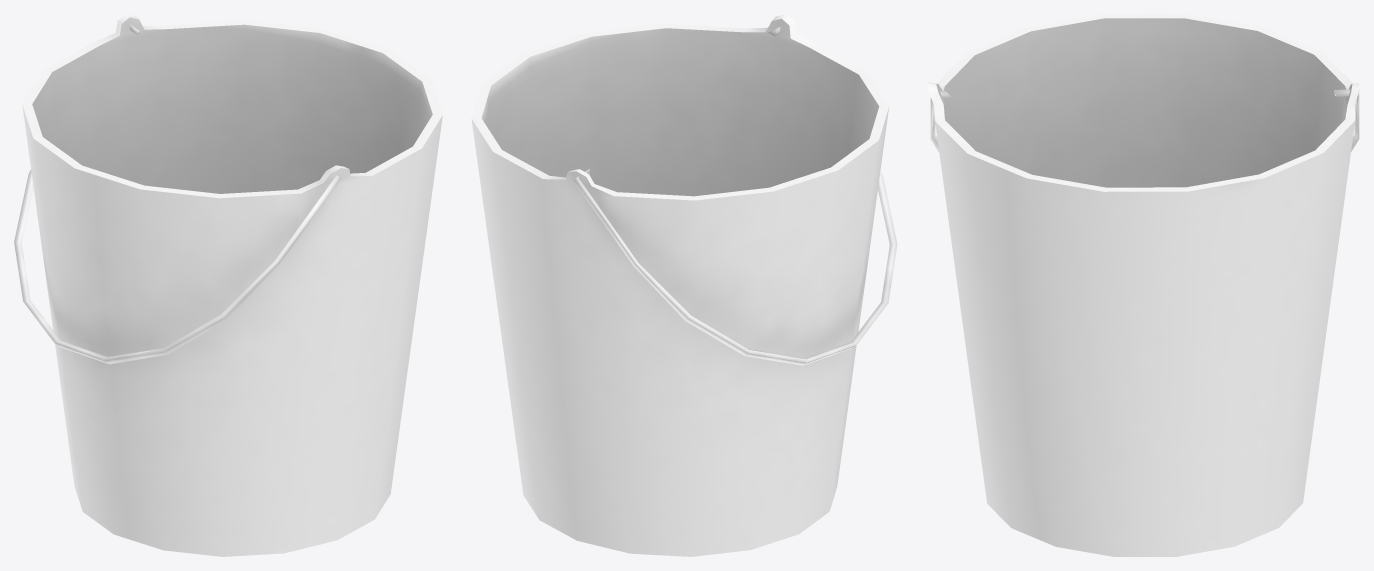
File: Bucket.glb
The picture shows the model from 3 angles, left to right: view 1: azimuth 30°, elevation 25°; view 2: azimuth 150°, elevation 25°; view 3: azimuth 270°, elevation 25°; orthographic projection. The views are drawn at different scales.
Parts seen in each view (by area): view 1: Bucket, Bucket.001; view 2: Bucket, Bucket.001; view 3: Bucket, Bucket.001.
Part boxes in pixels (x1,y1,x2,y2): Bucket: (22,14,442,556); Bucket.001: (14,24,341,364); Bucket: (471,14,889,556); Bucket.001: (573,27,897,365); Bucket: (926,14,1359,556); Bucket.001: (930,89,1359,152).
Bounding box in the file's own units: 0.2961 × 0.3164 × 0.3052.
Materials: 1 (1 with a texture image).
